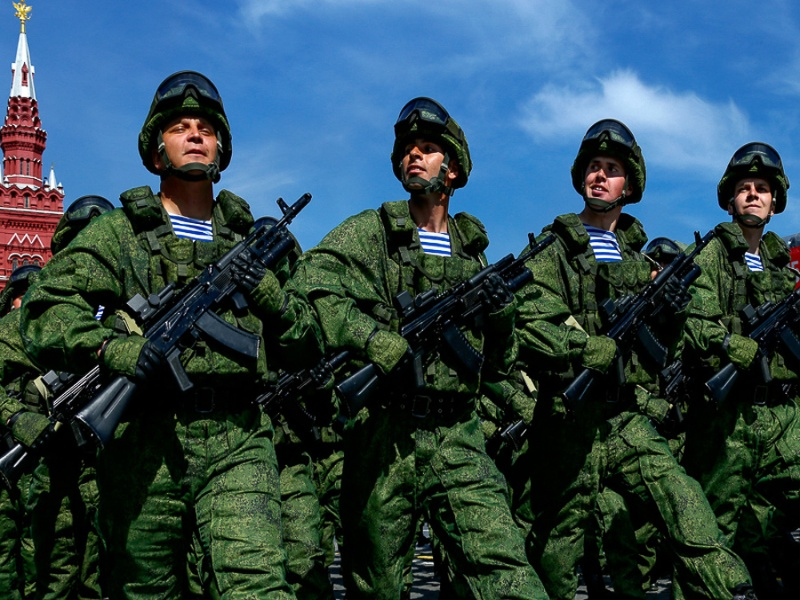person: (21, 72, 324, 600), (283, 97, 534, 600), (515, 119, 726, 600), (686, 143, 800, 600)
weapon: (77, 192, 311, 449), (335, 232, 555, 406), (561, 232, 714, 408), (704, 291, 800, 400)
